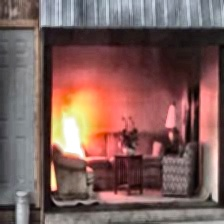fire: (50, 93, 97, 153)
